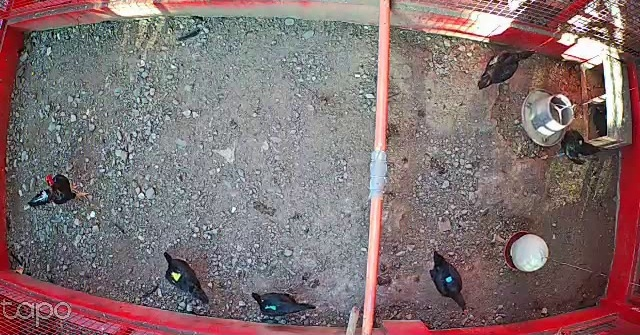Chicken: (156, 249, 212, 304), (424, 245, 469, 309), (477, 48, 536, 91), (248, 285, 319, 319), (551, 128, 602, 169)
Rooster: (27, 170, 92, 213)
Saddle_Color_Blue: (446, 277, 454, 283)
Saddle_Color_Yellow: (169, 269, 183, 282)
